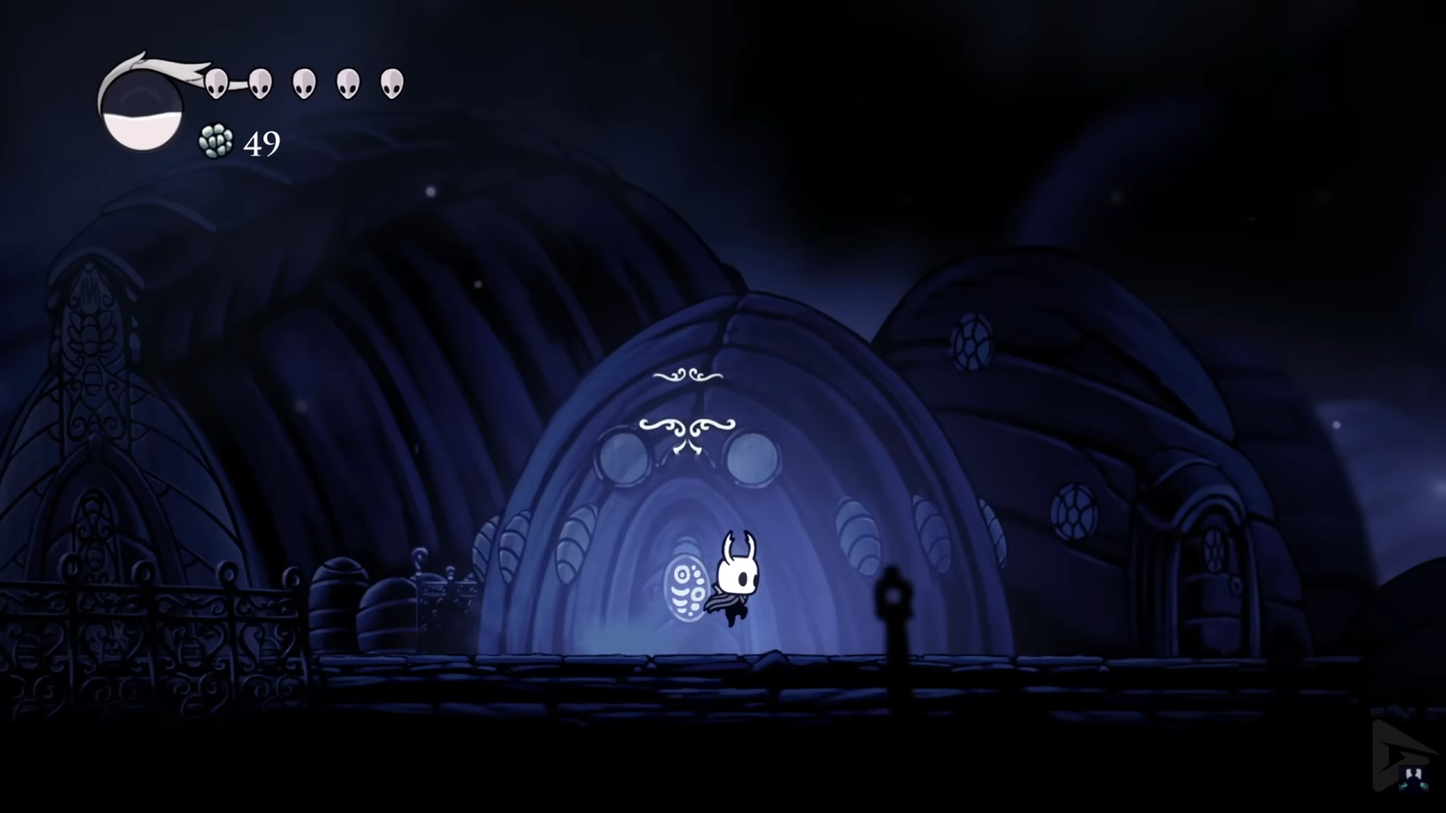HK: (709, 526, 766, 629)
